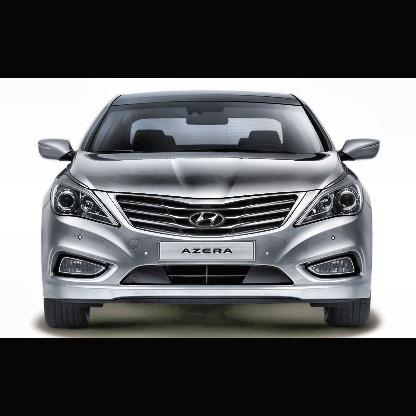Hyundai Azera Sedan 2012: (37, 88, 380, 326)
